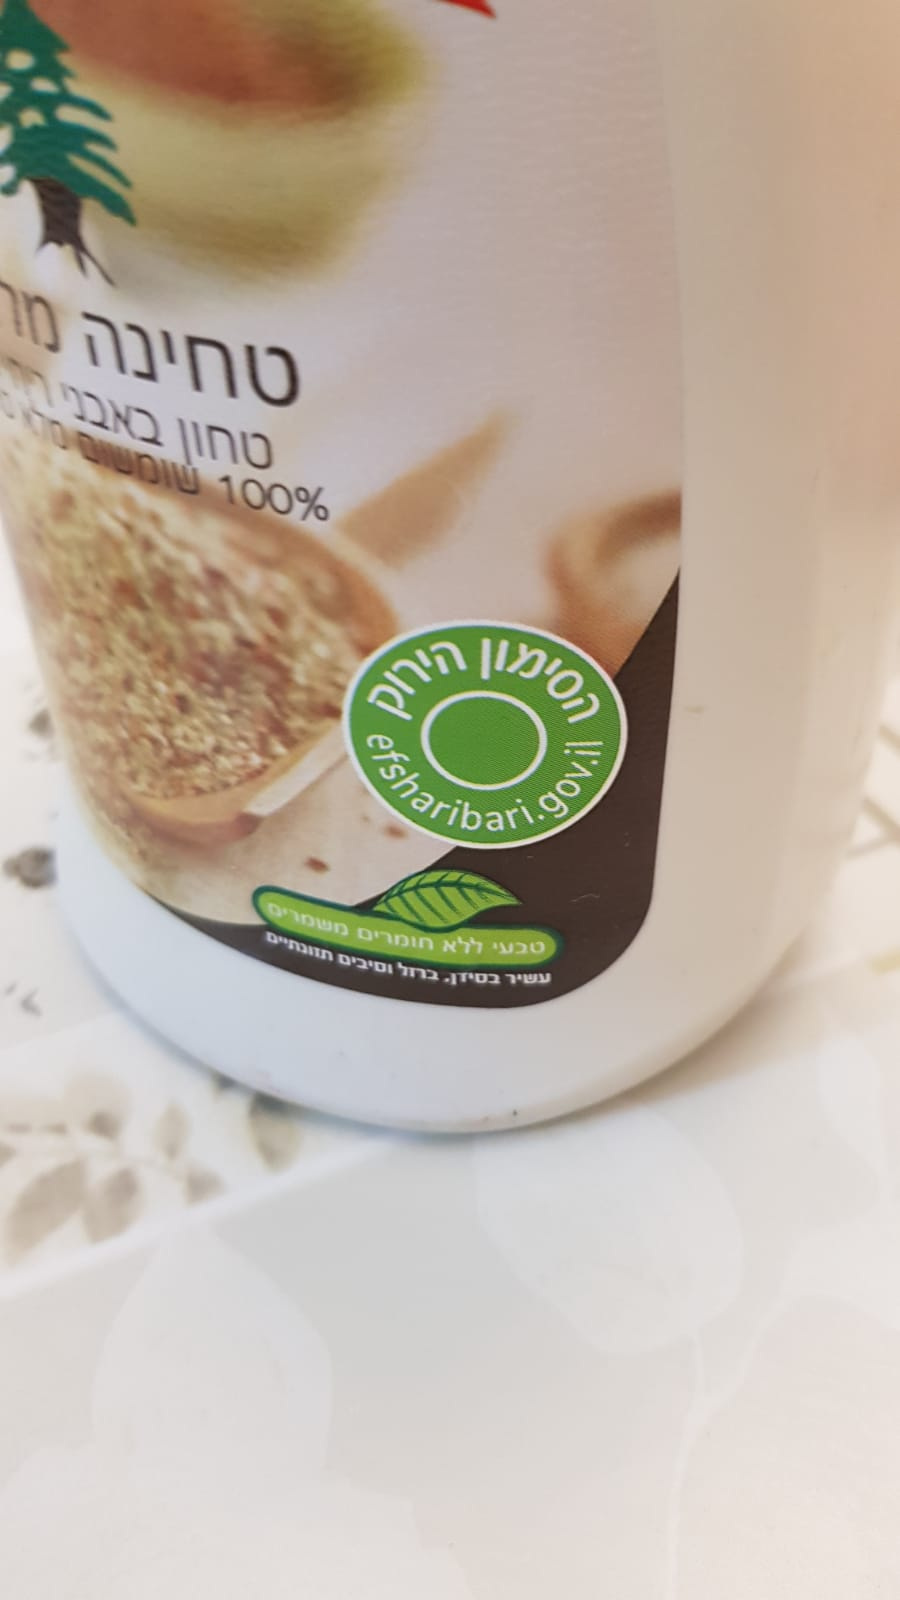green: (341, 623, 627, 851)
